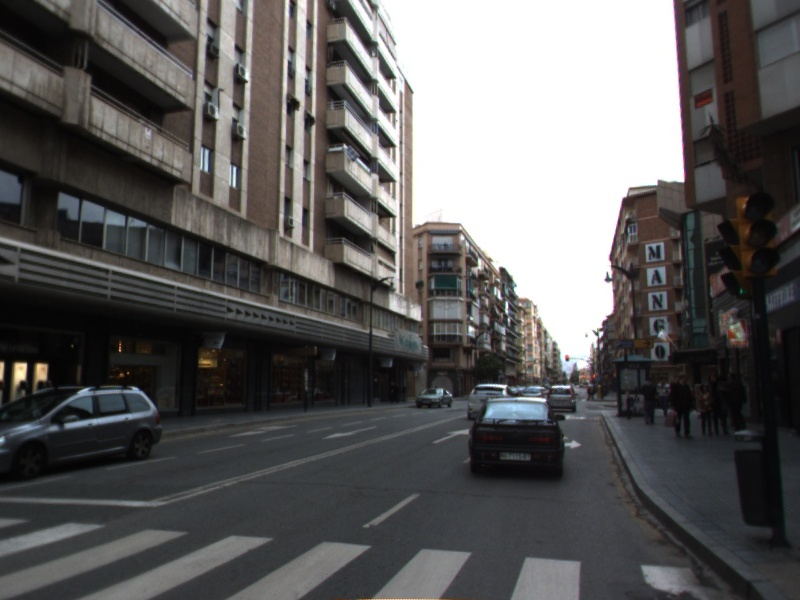STRAIGHT: (430, 426, 471, 445)
STRAIGHT_RIGHT: (563, 412, 588, 422)
